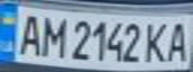1: (90, 17, 109, 62)
2: (66, 16, 93, 61), (121, 19, 145, 64)
4: (106, 18, 127, 63)
A: (12, 10, 45, 56), (163, 18, 193, 63)
K: (142, 18, 172, 64)
M: (36, 12, 69, 59)
